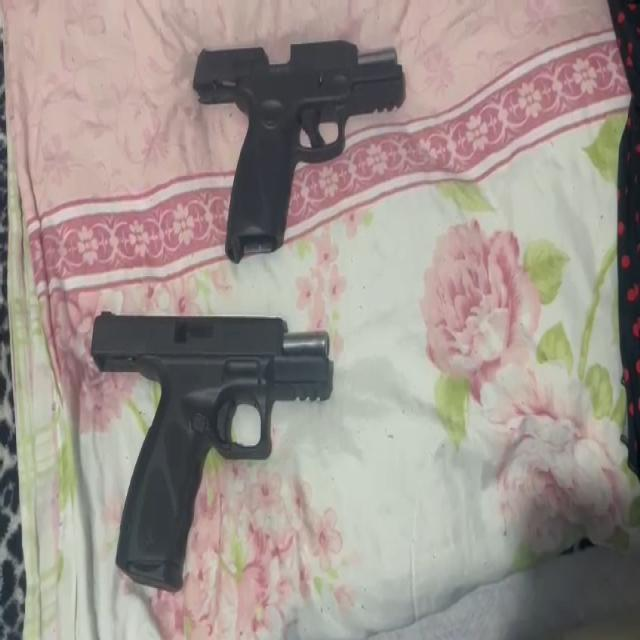gun: (89, 306, 335, 594), (191, 38, 405, 268)
